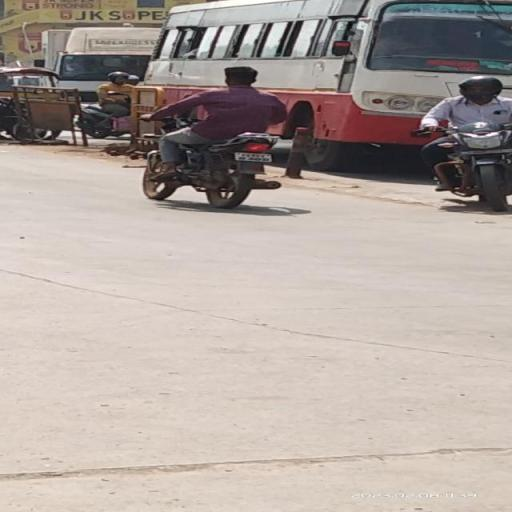bike: (136, 63, 294, 213)
withouthelmet: (223, 68, 258, 86)
